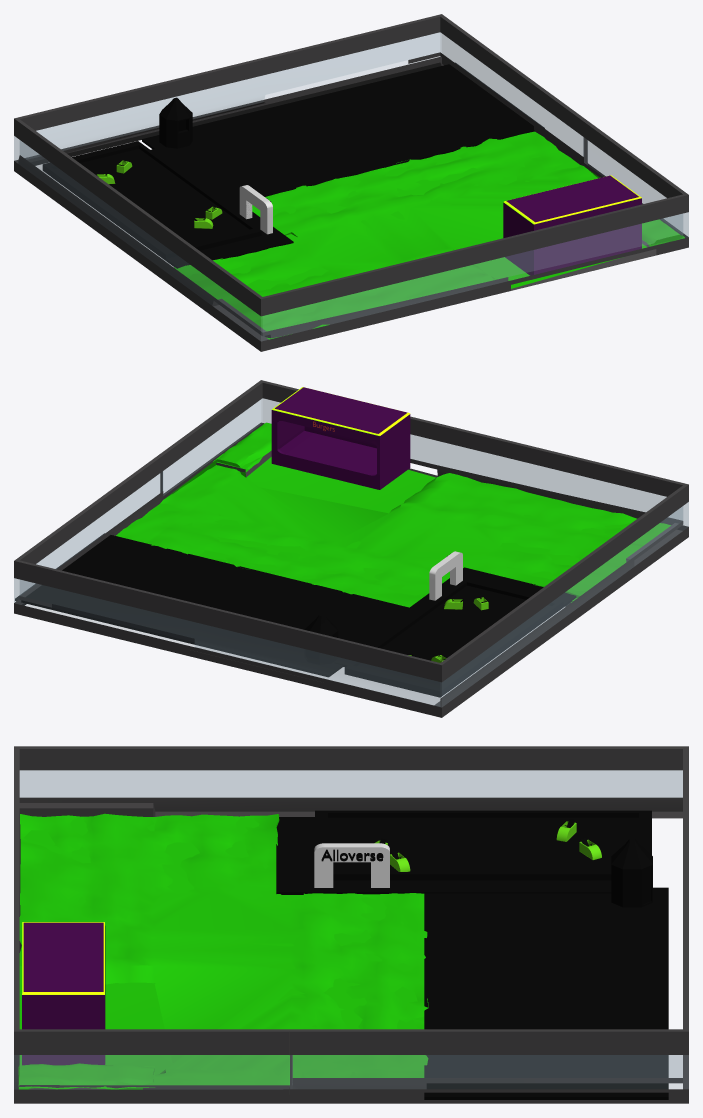
Rendered from ThemePark.glb.
3 renders of one model, top to bottom at view 1: azimuth 30°, elevation 25°; view 2: azimuth 150°, elevation 25°; view 3: azimuth 270°, elevation 25°, orthographic. The views are drawn at different scales.
Parts seen in each view (by area): view 1: Plane, Cube.001, Cube.003; view 2: Plane, Cube.001, Cube.003; view 3: Plane, Cube.001, Cube.003.
Part boxes in pixels (bbox=[...]): Plane: bbox=[14, 14, 688, 351]; Cube.001: bbox=[42, 97, 272, 260]; Cube.003: bbox=[503, 175, 641, 275]; Plane: bbox=[14, 380, 688, 717]; Cube.001: bbox=[304, 551, 563, 697]; Cube.003: bbox=[271, 387, 410, 489]; Plane: bbox=[14, 746, 688, 1103]; Cube.001: bbox=[314, 810, 652, 907]; Cube.003: bbox=[22, 922, 105, 1065].
Bounding box in the file's own units: 85.12 × 11.28 × 83.9.
